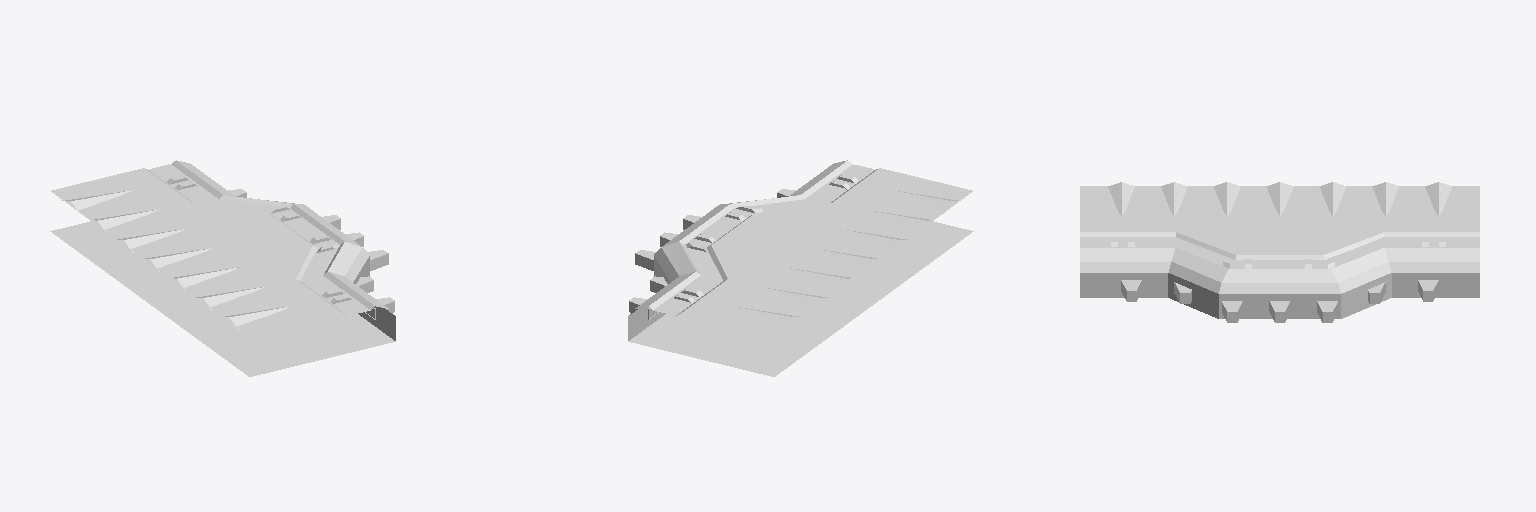
Rendered from stg600_obj_hatchL.obj.
3 renders of one model, left to right at view 1: azimuth 30°, elevation 25°; view 2: azimuth 150°, elevation 25°; view 3: azimuth 270°, elevation 25°, orthographic.
Parts seen in each view (by area): view 1: polygon0, polygon1, polygon3, polygon2; view 2: polygon0, polygon1, polygon3, polygon2; view 3: polygon0, polygon1, polygon3, polygon2.
Part boxes in pixels (left/top/right/bottom): polygon0: left=50, top=161, right=395, bottom=376; polygon1: left=167, top=160, right=394, bottom=319; polygon3: left=62, top=190, right=291, bottom=329; polygon2: left=150, top=164, right=366, bottom=314; polygon0: left=628, top=161, right=973, bottom=376; polygon1: left=629, top=160, right=858, bottom=319; polygon3: left=732, top=190, right=957, bottom=329; polygon2: left=656, top=165, right=873, bottom=314; polygon0: left=1080, top=186, right=1479, bottom=318; polygon1: left=1080, top=237, right=1479, bottom=322; polygon3: left=1108, top=182, right=1451, bottom=216; polygon2: left=1081, top=237, right=1478, bottom=268.
Bounding box in the file's own units: 32.41 × 6.54 × 52.76.